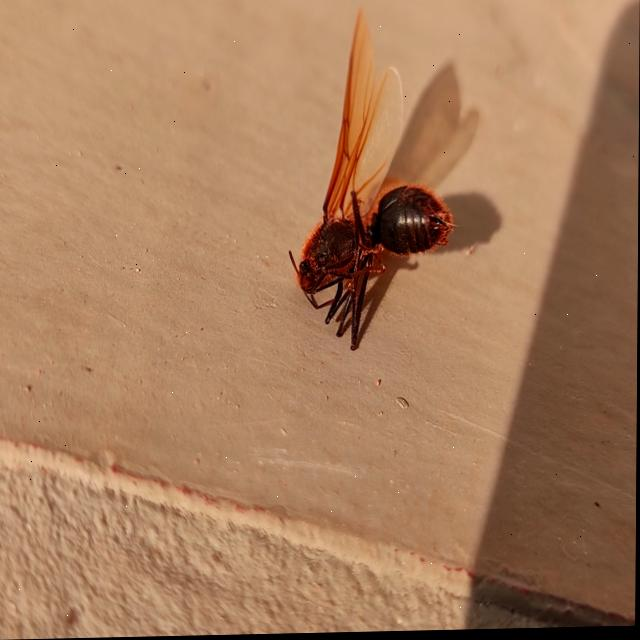Dead-Male-Alate: (288, 8, 454, 353)
